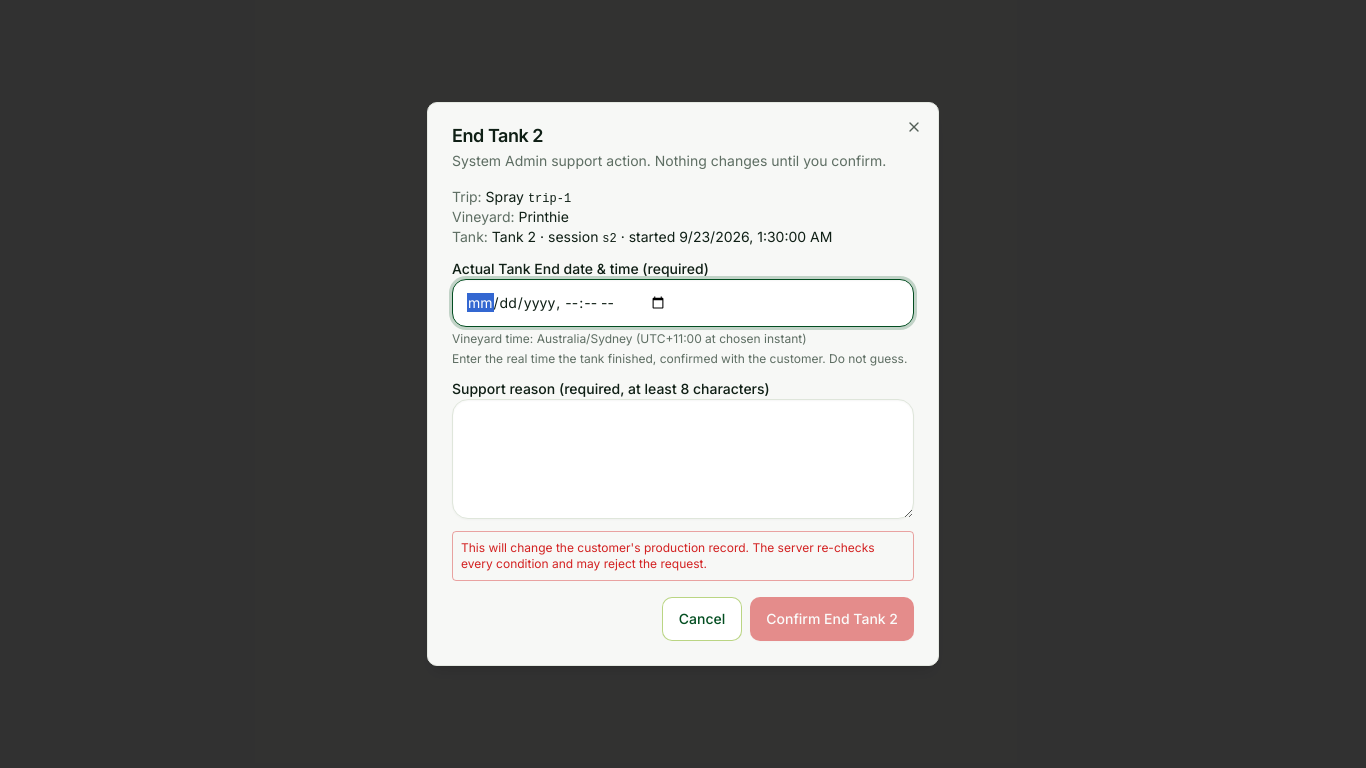
Test case: End Tank / End Trip: vineyard IANA timezone › dialog shows vineyard time and exact UTC; falls back to labelled computer time
The width and height of the screenshot is (1366, 768).
Later steps or results of the test are not shown.
Type "2026-11-05T17:30" into the field labelled "Actual Tank End date & time (required)" at (683, 303), box [452, 279, 914, 327]
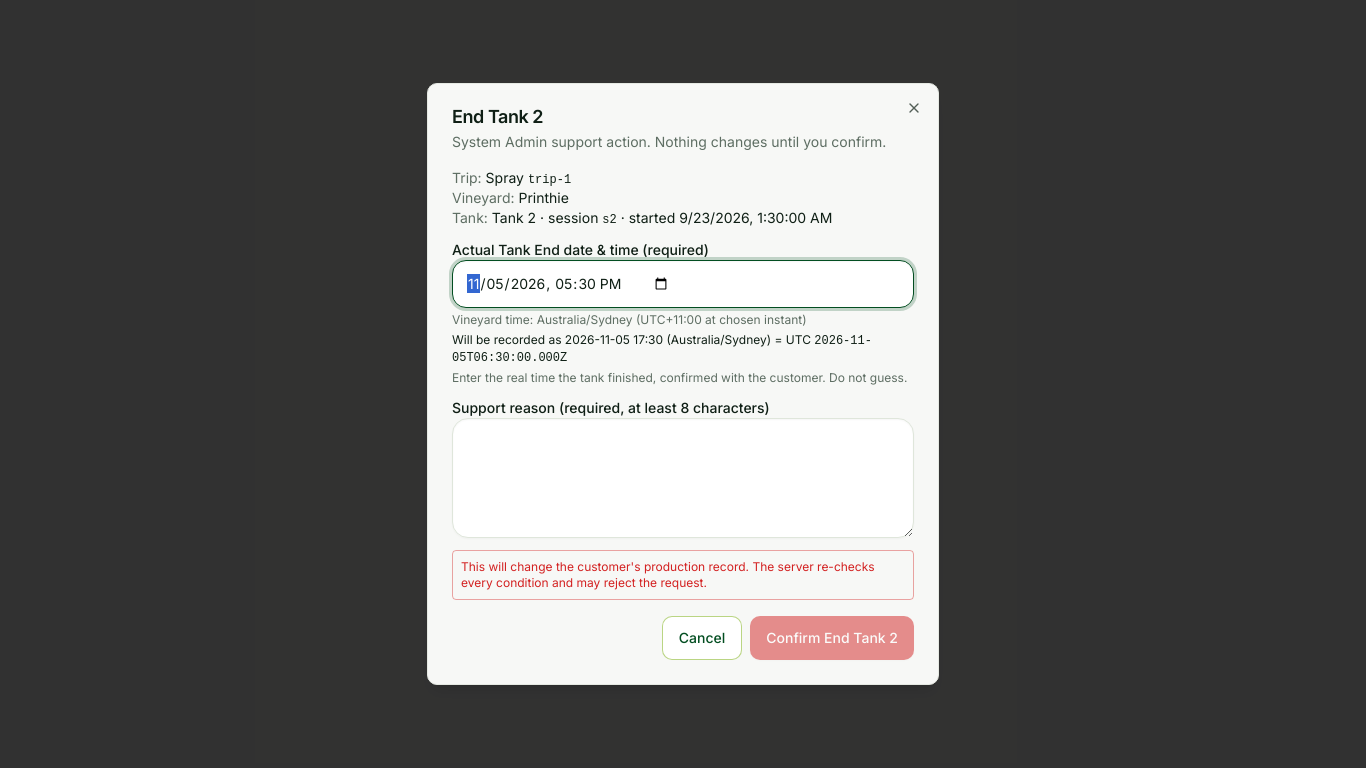
Expected: the text with test id "lifecycle-tz" reads "Vineyard time: Australia/Sydney (UTC+11:00 at chosen instant)", [452, 312, 806, 327]
Expected: the element with test id "lifecycle-converted" shows "2026-11-05T06:30:00.000Z", [452, 334, 872, 365]
